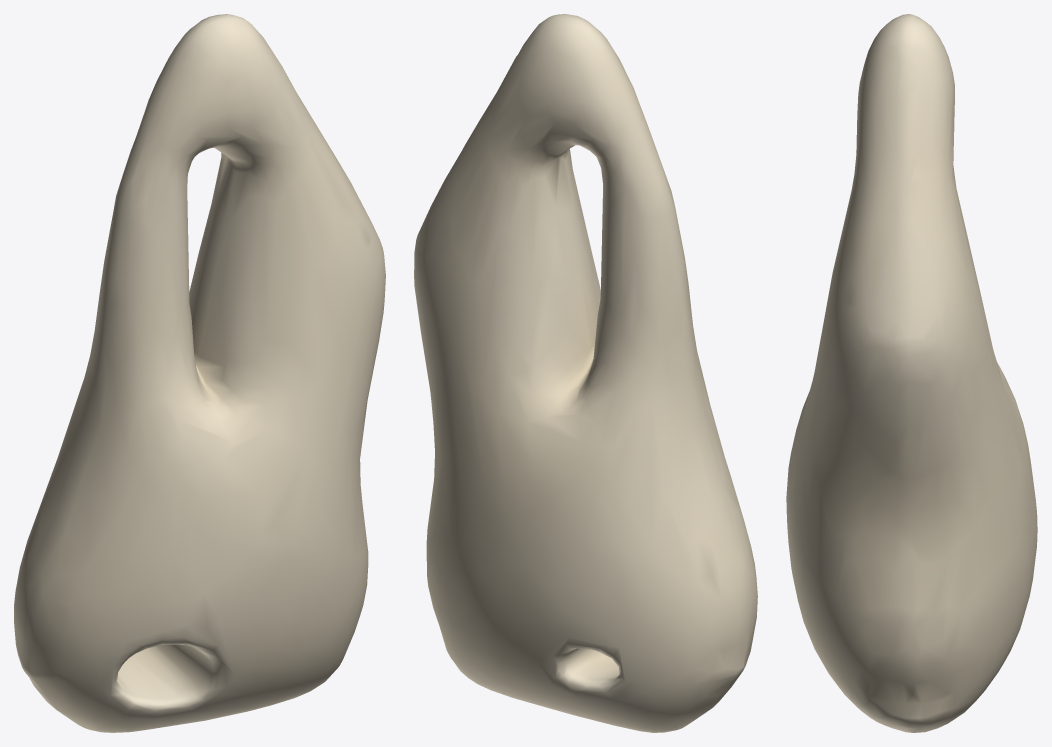
File: lumen_jezdec_bila.glb
The picture shows the model from 3 angles, left to right: view 1: azimuth 30°, elevation 25°; view 2: azimuth 150°, elevation 25°; view 3: azimuth 270°, elevation 25°; orthographic projection. The views are drawn at different scales.
Parts seen in each view (by area): view 1: Lumen jezdec bila; view 2: Lumen jezdec bila; view 3: Lumen jezdec bila.
Boxes of the visible parts, x1=… form: Lumen jezdec bila: x1=14, y1=14, x2=385, y2=732; Lumen jezdec bila: x1=414, y1=14, x2=757, y2=732; Lumen jezdec bila: x1=786, y1=14, x2=1037, y2=732.
Size of the model in its own units: 0.0336 by 0.0646 by 0.0218.
